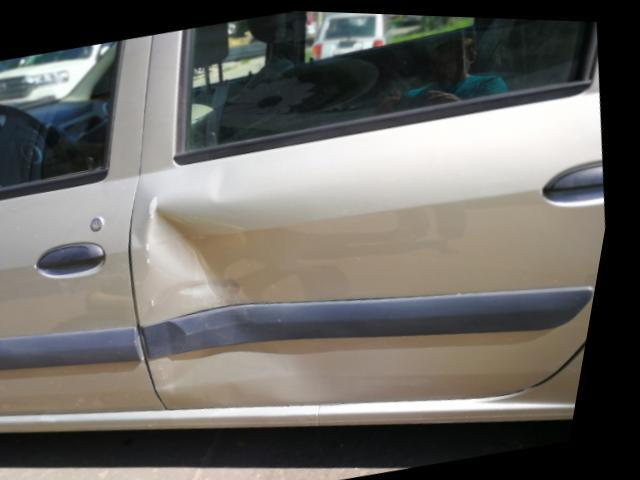dent: (152, 199, 379, 404), (213, 160, 246, 200)
